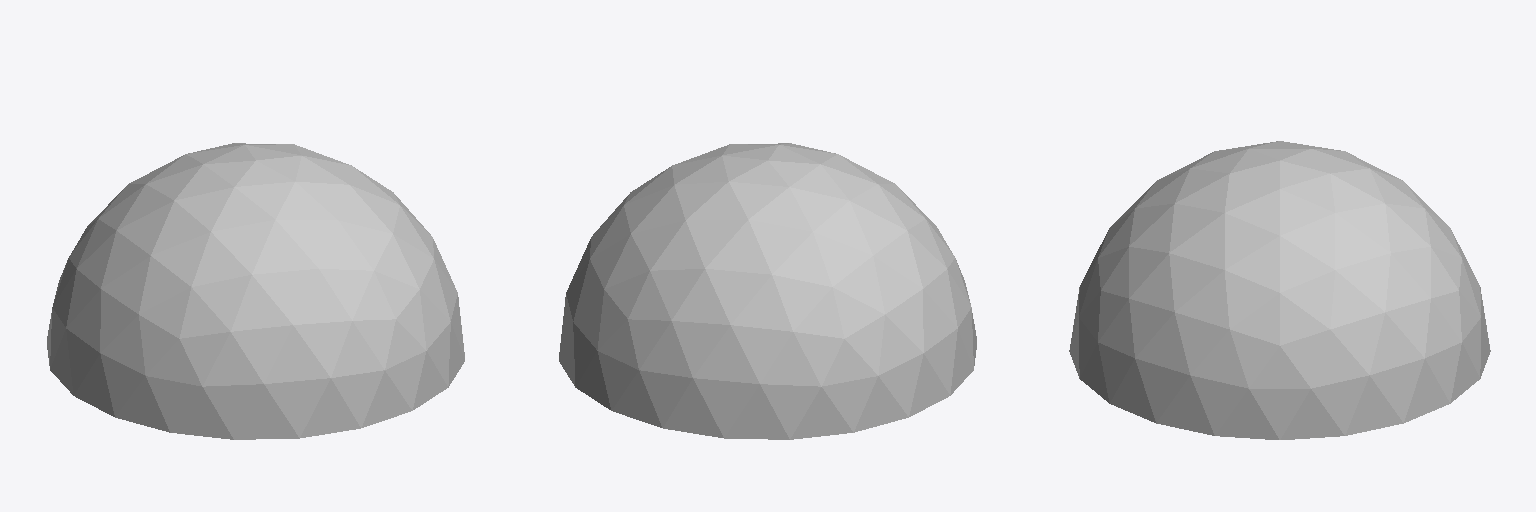
The model's file is growhouse_glass.obj.
3 renders of one model, left to right at view 1: azimuth 30°, elevation 25°; view 2: azimuth 150°, elevation 25°; view 3: azimuth 270°, elevation 25°, orthographic.
Visible parts, largest first — view 1: Glass; view 2: Glass; view 3: Glass.
Part boxes in pixels (x1,y1,x2,y2): Glass: (47,143,464,439); Glass: (559,143,976,439); Glass: (1069,141,1490,439).
Bounding box in the file's own units: 10 × 5 × 10.